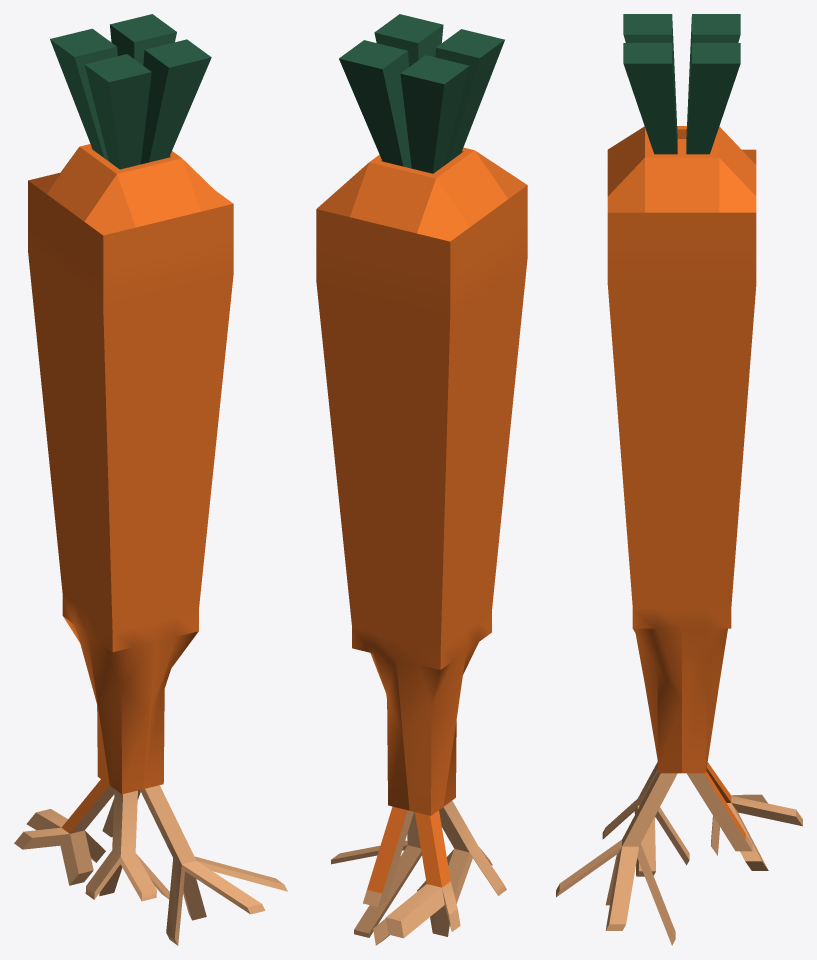
File: carrots.fbx
3 views of the same model, side by side, from view 1: azimuth 30°, elevation 25°; view 2: azimuth 150°, elevation 25°; view 3: azimuth 270°, elevation 25° (orthographic). The views are drawn at different scales.
Parts seen in each view (by area): view 1: carrot; view 2: carrot; view 3: carrot.
Part boxes in pixels (x1,y1,x2,y2): carrot: (14, 14, 287, 945); carrot: (316, 14, 527, 945); carrot: (556, 14, 802, 945).
Size of the model in its own units: 294 by 1294 by 332.
